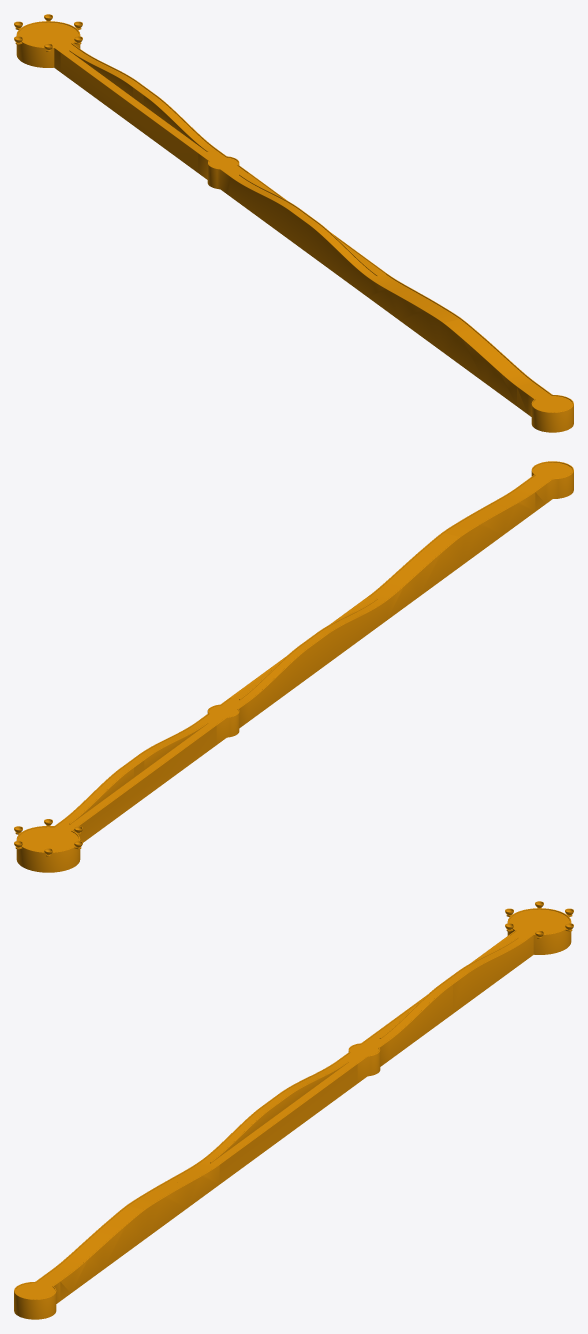
File: static-mesh.fbx
3 renders of one model, top to bottom at view 1: azimuth 30°, elevation 25°; view 2: azimuth 150°, elevation 25°; view 3: azimuth 330°, elevation 25°, orthographic.
Visible parts, largest first — view 1: roadEnd; view 2: roadEnd; view 3: roadEnd.
Part boxes in pixels (<box>): roadEnd: <box>14,14,573,432</box>; roadEnd: <box>14,461,573,872</box>; roadEnd: <box>14,901,573,1319</box>.
Bounding box in the file's own units: 368 × 154 × 5012.
